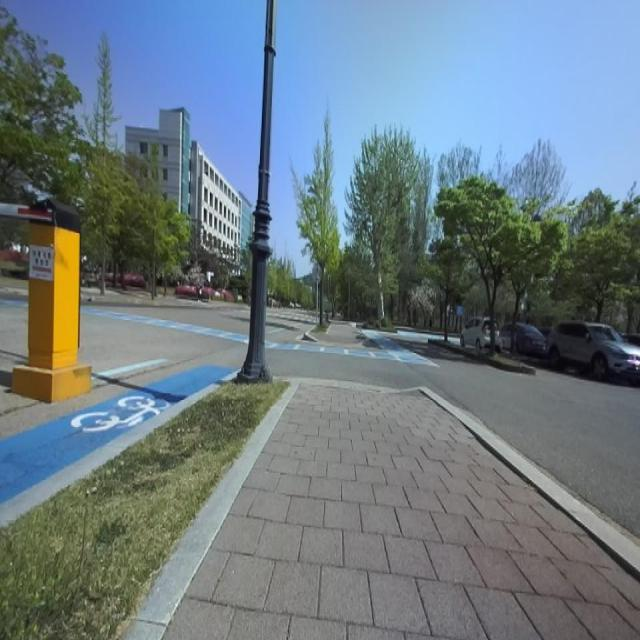sidewalk: (165, 382, 640, 639)
